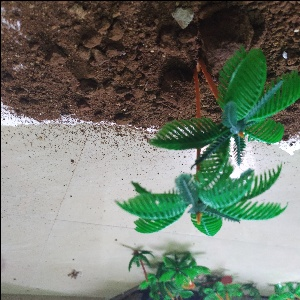plant: (112, 46, 300, 235)
